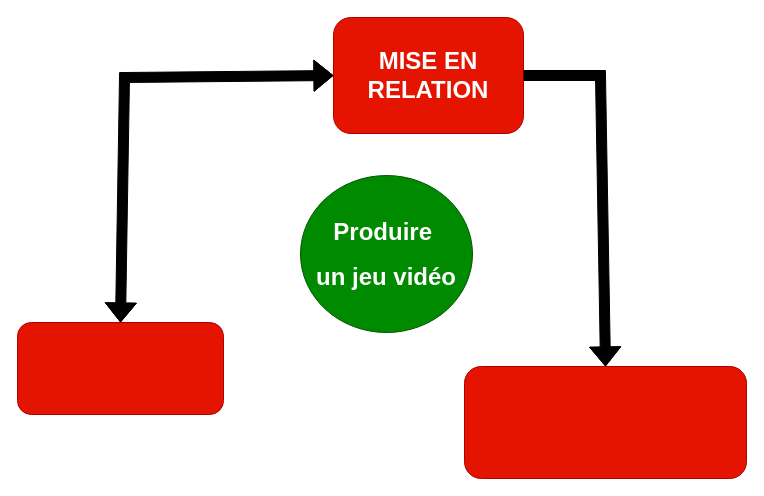
This 764x496 diagram has some shape labels left out. The centre of each missing label's shape, as x and y in pixels:
"ACCOMPAGNEMENT" belongs at pixel 605 422.
"FORMATION" belongs at pixel 120 368.
